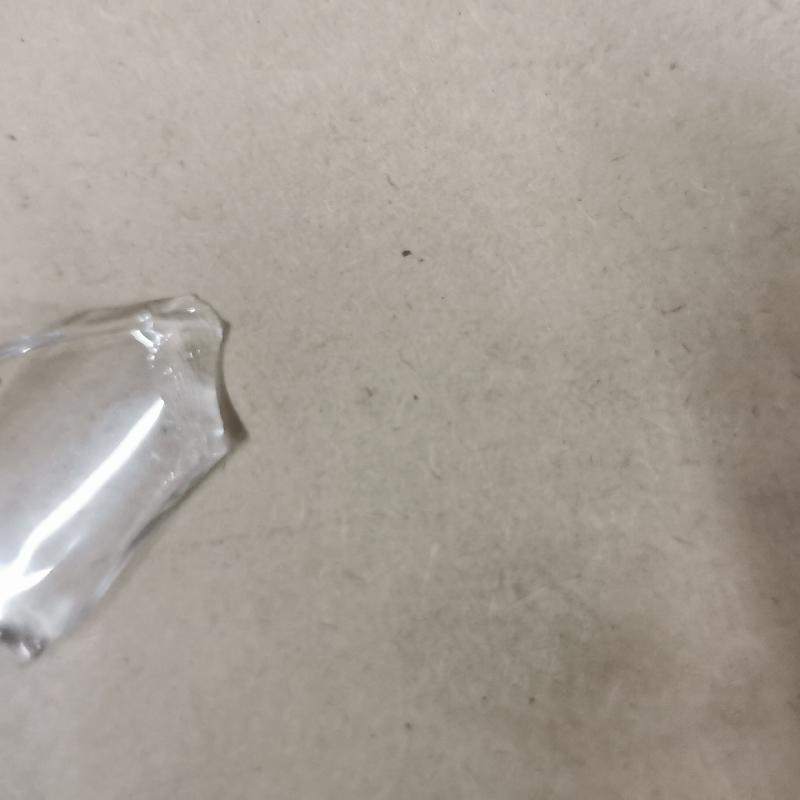glass: (6, 290, 244, 659)
